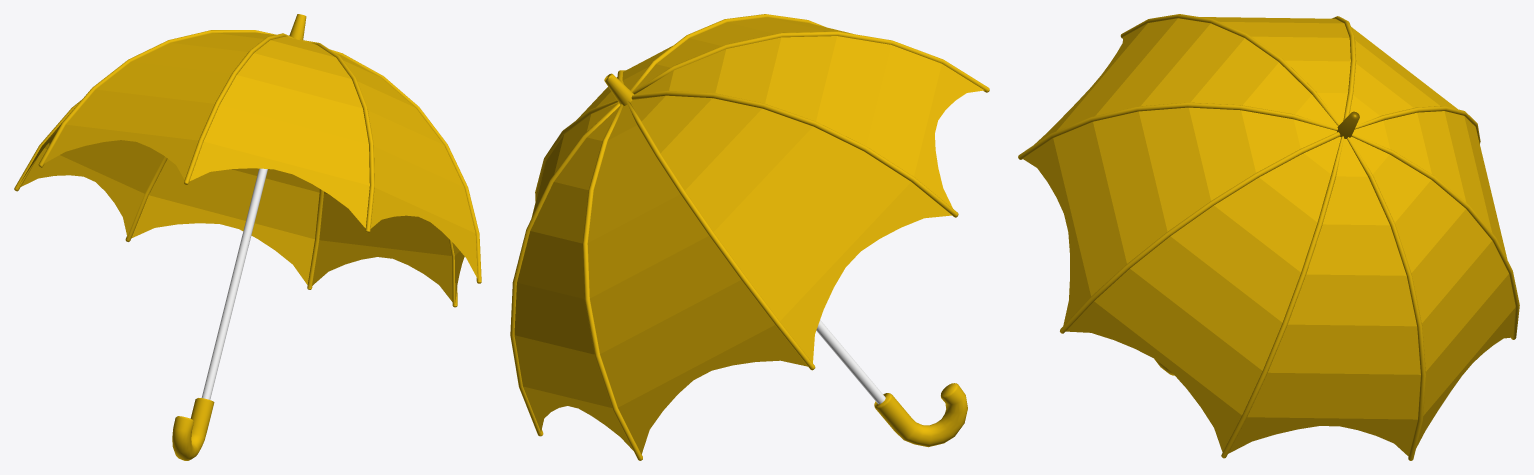
File: umbrella.glb
3 views of the same model, side by side, from view 1: azimuth 30°, elevation 25°; view 2: azimuth 150°, elevation 25°; view 3: azimuth 270°, elevation 25° (orthographic). The views are drawn at different scales.
Visible parts, largest first — view 1: Sphere.001, ribs, Cylinder, Cylinder.001; view 2: Sphere.001, ribs, Cylinder.001, Cylinder, Cylinder.002; view 3: Sphere.001, ribs.
Part boxes in pixels (box(x1,y1,x2,y2)): Sphere.001: box(20, 32, 477, 302); ribs: box(14, 30, 481, 307); Cylinder: box(201, 168, 267, 399); Cylinder.001: box(172, 398, 214, 460); Sphere.001: box(514, 17, 984, 454); ribs: box(510, 14, 989, 460); Cylinder.001: box(874, 383, 967, 447); Cylinder: box(816, 320, 885, 404); Cylinder.002: box(604, 73, 634, 105); Sphere.001: box(1022, 17, 1515, 456); ribs: box(1018, 14, 1519, 460).
Bounding box in the file's own units: 1.35 × 1.2 × 1.4.
